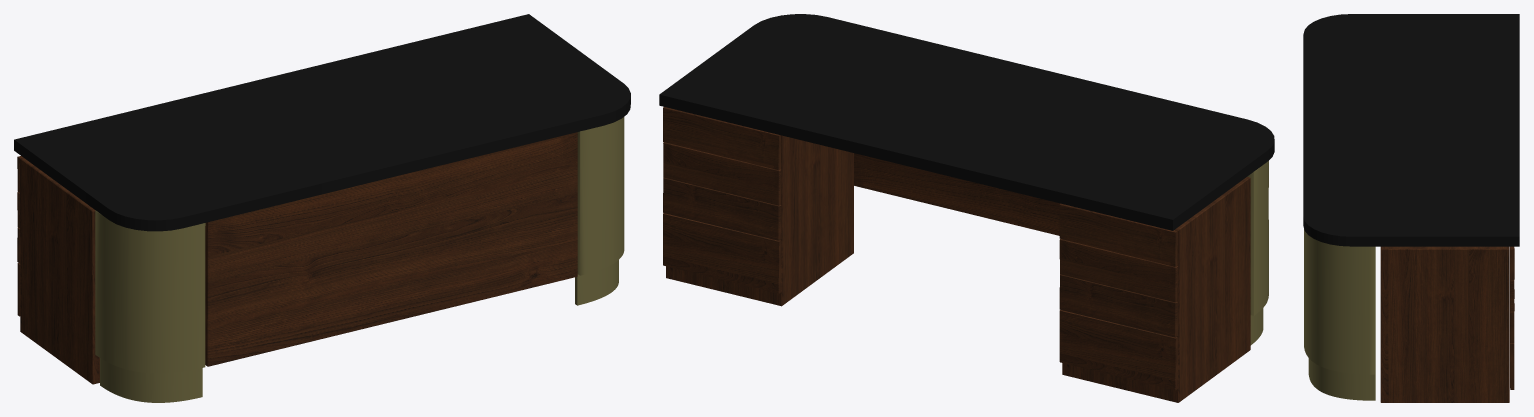
The model's file is Table.FBX.
3 renders of one model, left to right at view 1: azimuth 30°, elevation 25°; view 2: azimuth 150°, elevation 25°; view 3: azimuth 270°, elevation 25°, orthographic. The views are drawn at different scales.
Parts seen in each view (by area): view 1: Table; view 2: Table; view 3: Table.
Part boxes in pixels (x1,y1,x2,y2): Table: (14, 14, 630, 402); Table: (659, 14, 1274, 402); Table: (1303, 14, 1519, 402).
Bounding box in the file's own units: 230 × 80.4 × 94.37.
Materials: 3 (2 with a texture image).
